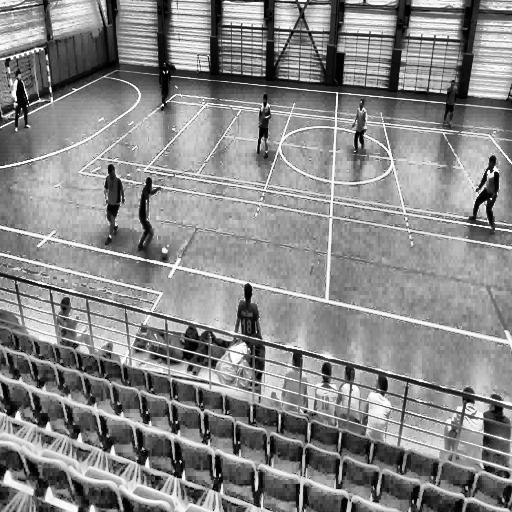ball: (160, 247, 169, 262)
player: (470, 152, 500, 235), (103, 163, 125, 246), (136, 176, 158, 256), (12, 69, 30, 130), (256, 93, 271, 160), (351, 98, 367, 156), (440, 75, 457, 128), (160, 60, 172, 110)
